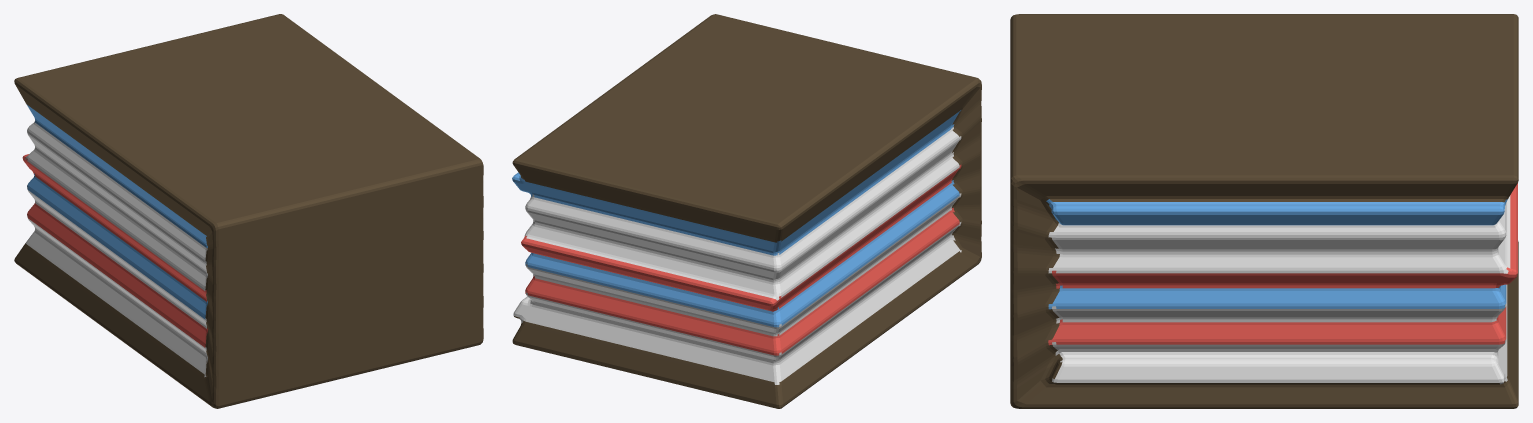
The model's file is Wallet.fbx.
The picture shows the model from 3 angles, left to right: view 1: azimuth 30°, elevation 25°; view 2: azimuth 150°, elevation 25°; view 3: azimuth 270°, elevation 25°; orthographic projection. The views are drawn at different scales.
Parts seen in each view (by area): view 1: Cube; view 2: Cube; view 3: Cube.
Boxes of the visible parts, box(x1,y1,x2,y2) form: Cube: box(14, 14, 483, 408); Cube: box(512, 14, 981, 408); Cube: box(1010, 14, 1518, 408).
Size of the model in its own units: 311 by 200 by 395.
